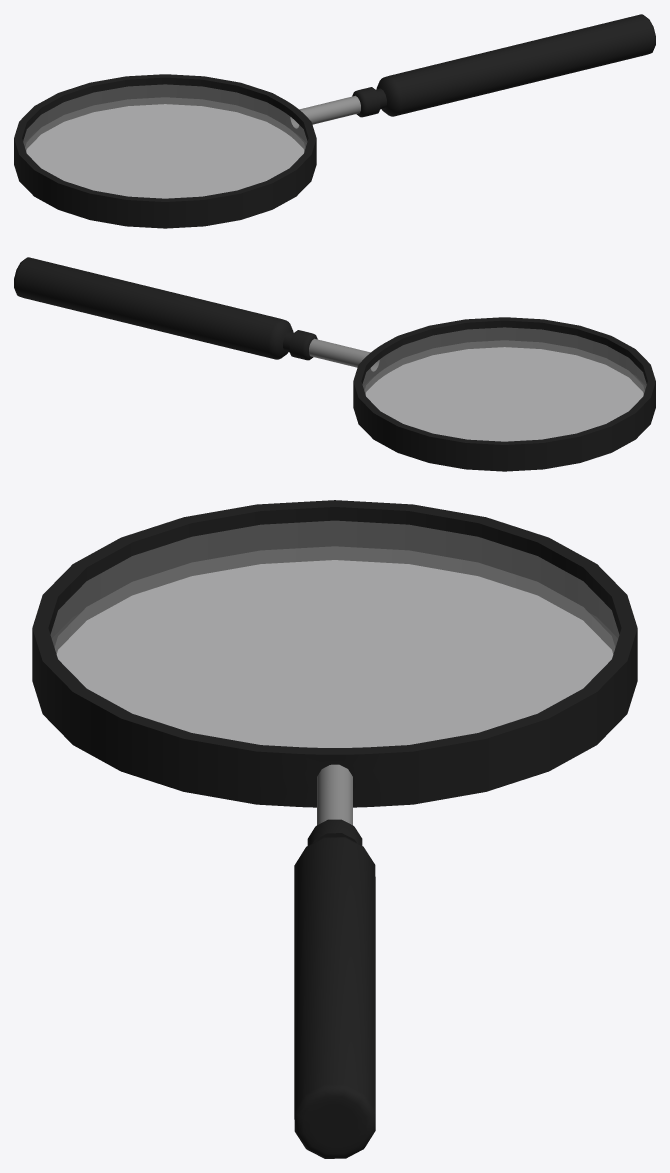
The model's file is magnifying_glass.glb.
3 renders of one model, top to bottom at view 1: azimuth 30°, elevation 25°; view 2: azimuth 150°, elevation 25°; view 3: azimuth 270°, elevation 25°, orthographic. The views are drawn at different scales.
Visible parts, largest first — view 1: SM_magnifying_glass; view 2: SM_magnifying_glass; view 3: SM_magnifying_glass.
Part boxes in pixels (x1,y1,x2,y2): SM_magnifying_glass: (14, 14, 655, 228); SM_magnifying_glass: (14, 257, 655, 471); SM_magnifying_glass: (32, 500, 637, 1158).
Size of the model in its own units: 28.41 by 1.63 by 12.14.
Materials: 1 (1 with a texture image).
